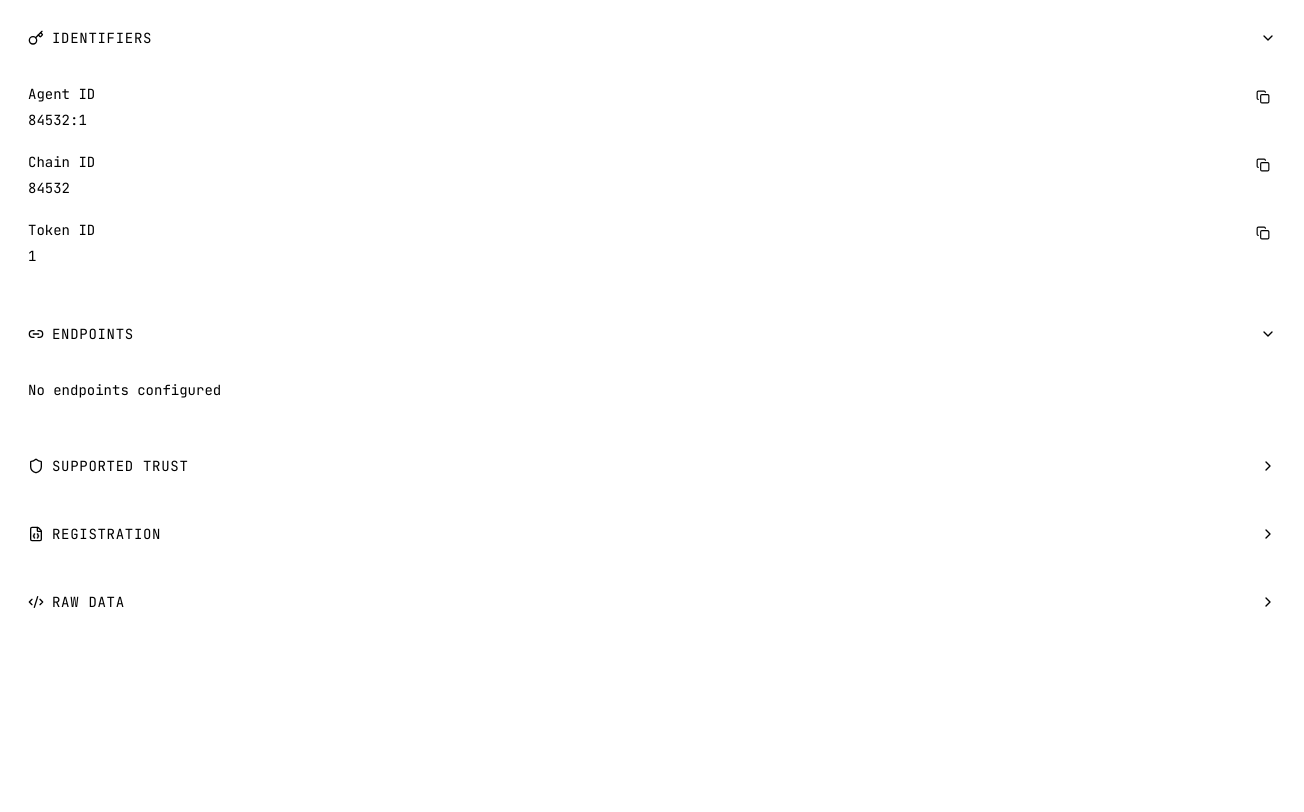
Test: AgentMetadata › supported trust section › shows empty state when no trust models
Click the button "Supported Trust": coordinates (120, 466) [12,440,1292,492]
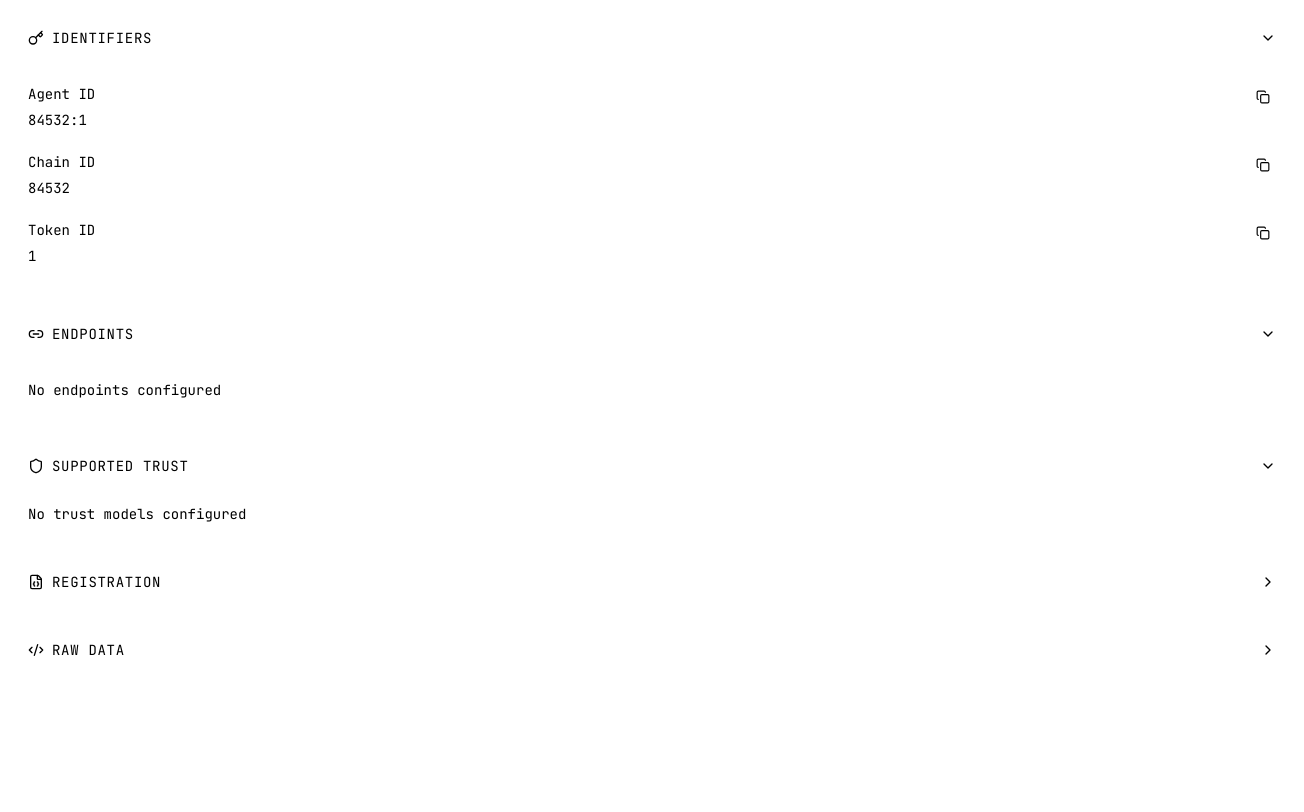
Check: the text "No trust models configured" is shown, box [28,505,246,523]
